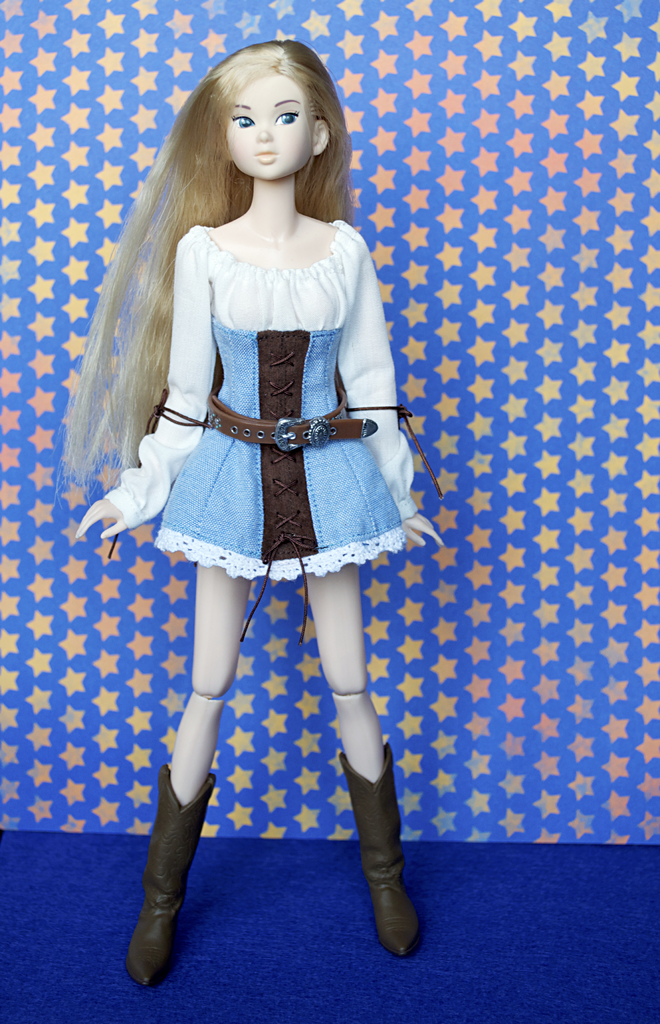Footwear: (123, 777, 224, 994), (336, 735, 429, 964)
